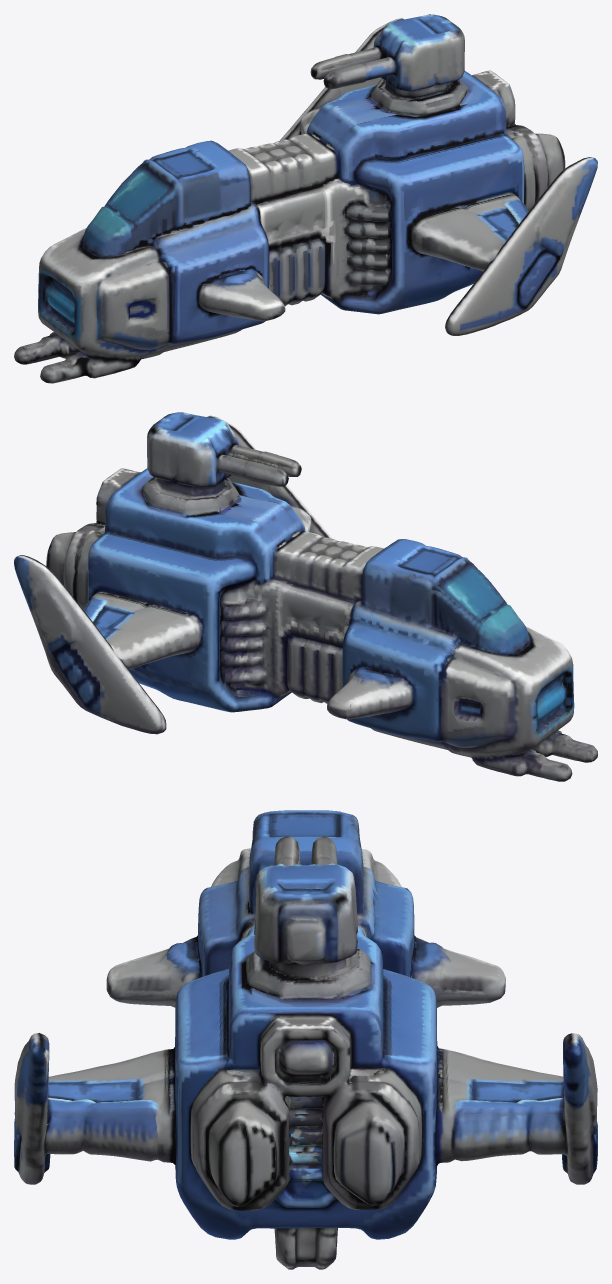
File: Titan_Bulwark.glb
3 renders of one model, top to bottom at view 1: azimuth 30°, elevation 25°; view 2: azimuth 150°, elevation 25°; view 3: azimuth 270°, elevation 25°, orthographic. The views are drawn at different scales.
Parts seen in each view (by area): view 1: Mesh_0; view 2: Mesh_0; view 3: Mesh_0.
Boxes of the visible parts, bbox=[...] form: Mesh_0: bbox=[14, 14, 597, 383]; Mesh_0: bbox=[14, 412, 597, 781]; Mesh_0: bbox=[14, 810, 597, 1269].
Size of the model in its own units: 1.91 by 0.955 by 1.35.
Materials: 1 (1 with a texture image).
